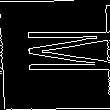M_E: (0, 31, 110, 79)
